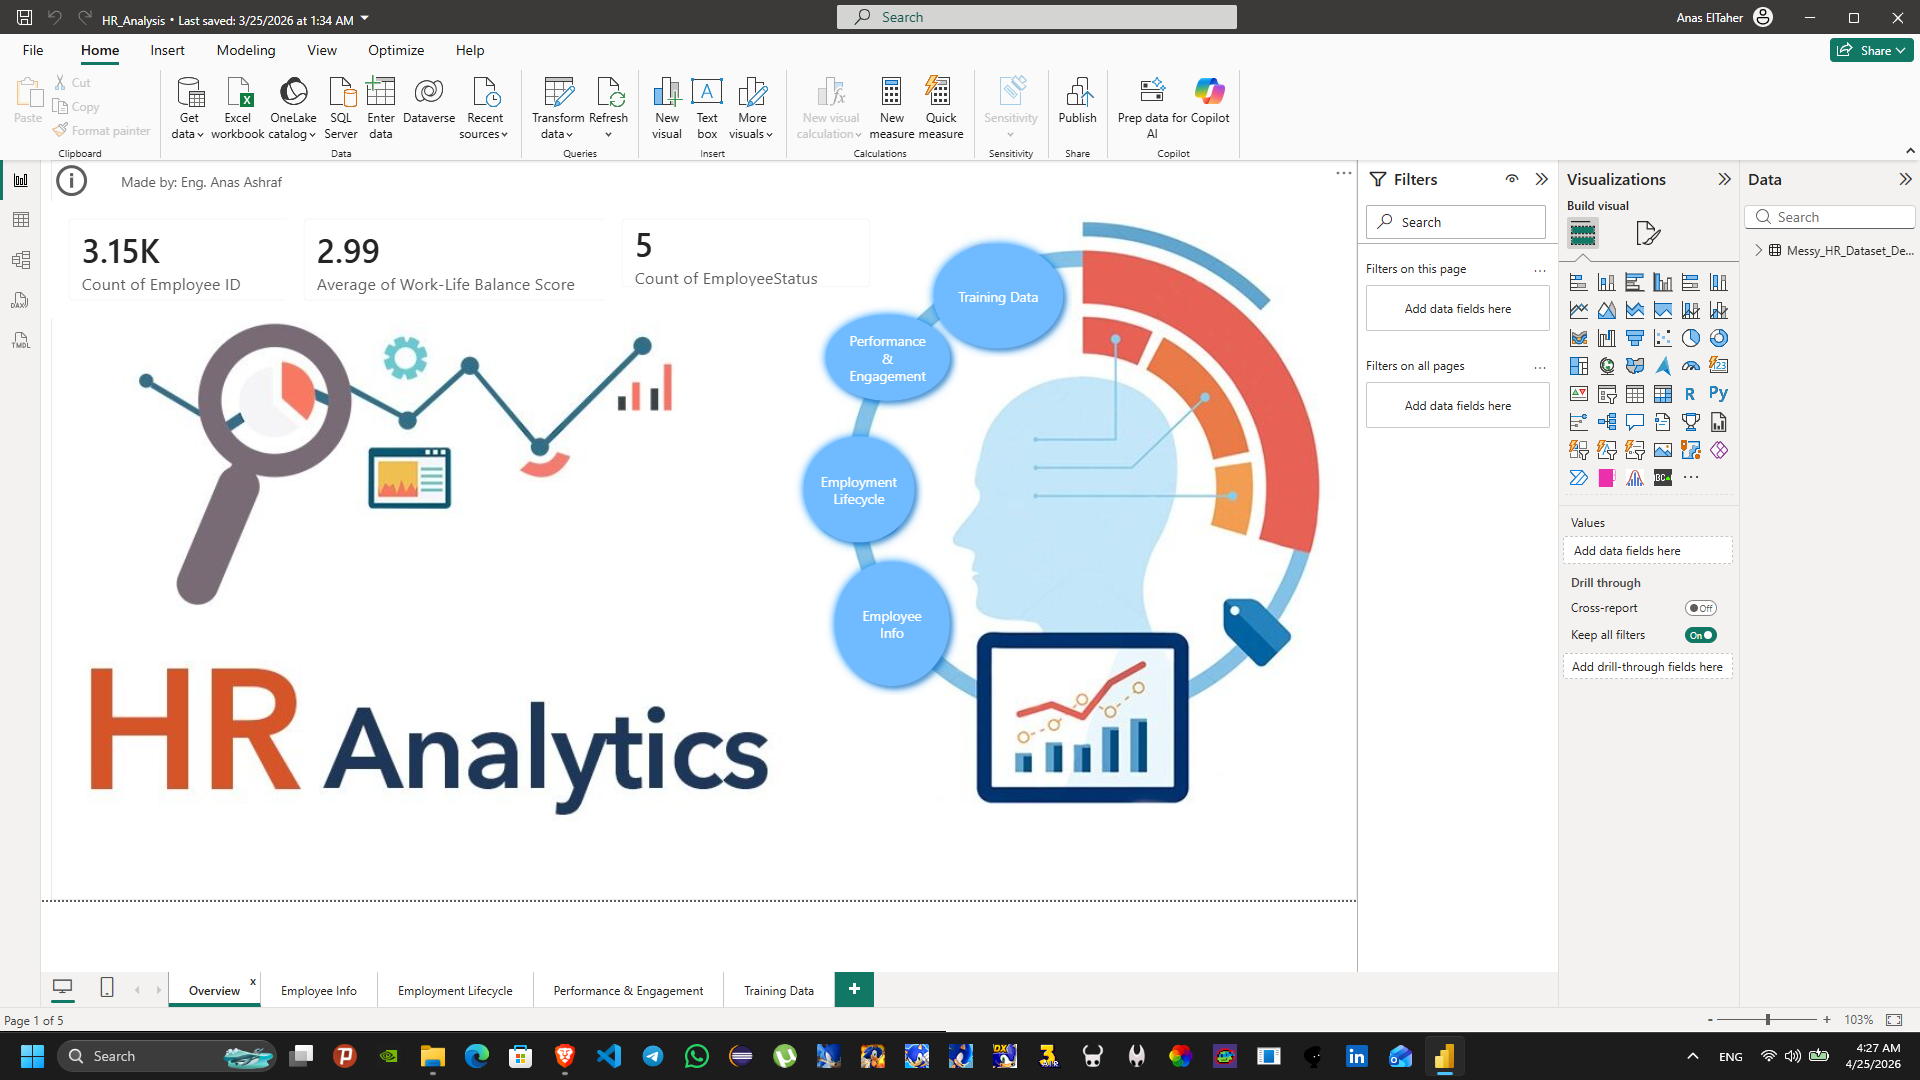

What the dashboard file says about the page in this screenshot:
{"tool":"powerbi","page":{"name":"Overview","canvas":[1280,720],"ordinal":0},"visuals":[{"type":"image","box":[10,0,1270,719.7],"z":0},{"type":"shape","box":[762.8,380.9,130.3,139.3],"z":1},{"type":"shape","box":[732.7,259.6,126.3,121.3],"z":2},{"type":"shape","box":[753.8,141.3,139.3,102.2],"z":3},{"type":"shape","box":[859,72.2,144.3,120.3],"z":4},{"type":"actionButton","box":[10,0,228.5,40.1],"z":5},{"type":"cardVisual","fields":{"Data":["CountNonNull(Messy_HR_Dataset_Detailed.Employee ID)"]},"box":[10,40,276,114],"z":6},{"type":"cardVisual","fields":{"Data":["Avg(Messy_HR_Dataset_Detailed.Work-Life Balance Score)"]},"box":[238,40,334,114],"z":7},{"type":"cardVisual","fields":{"Data":["Count(Messy_HR_Dataset_Detailed.EmployeeStatus)"]},"box":[547.8,40,276.7,101.1],"z":8}]}

Visuals, with their boxes on the page's 1280x720 design canvas (x1, y1, x2, y2). These are canvas units, not pixel positions in the 1920x1080 screenshot, which may show the page scaled, cropped or inside an application window:
image: BBox(10, 0, 1280, 720)
shape: BBox(763, 381, 893, 520)
shape: BBox(733, 260, 859, 381)
shape: BBox(754, 141, 893, 244)
shape: BBox(859, 72, 1003, 192)
actionButton: BBox(10, 0, 238, 40)
cardVisual - CountNonNull(Messy_HR_Dataset_Detailed.Employee ID): BBox(10, 40, 286, 154)
cardVisual - Avg(Messy_HR_Dataset_Detailed.Work-Life Balance Score): BBox(238, 40, 572, 154)
cardVisual - Count(Messy_HR_Dataset_Detailed.EmployeeStatus): BBox(548, 40, 824, 141)
